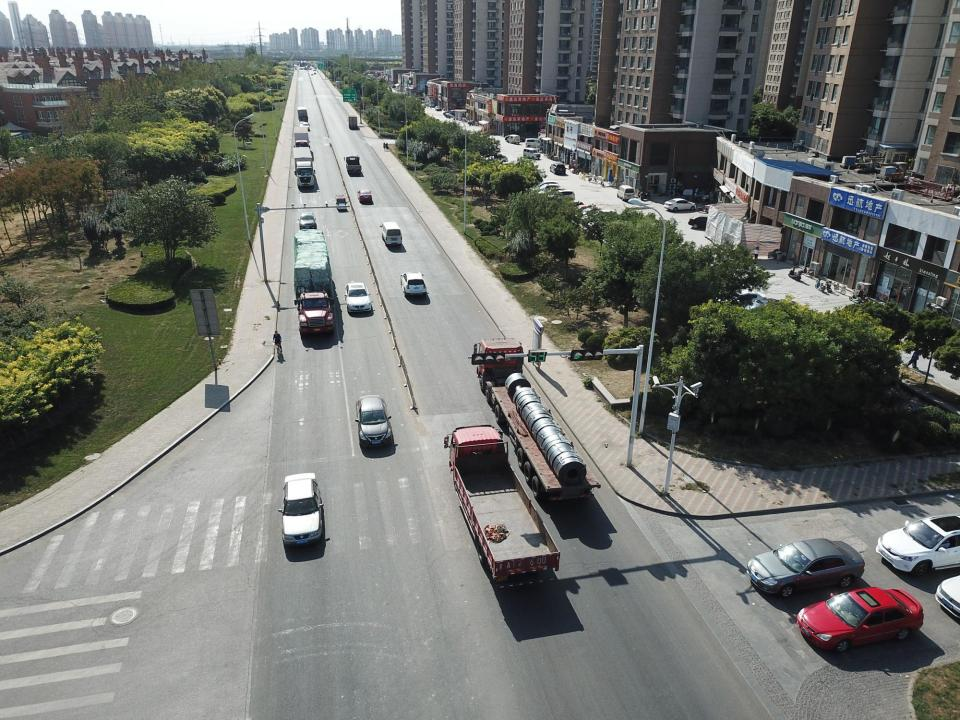car: (798, 587, 924, 653), (746, 539, 866, 598), (876, 512, 960, 572), (276, 472, 325, 547), (357, 396, 392, 447), (934, 574, 960, 618), (717, 290, 764, 308), (344, 284, 372, 314), (401, 271, 428, 297), (744, 298, 783, 316), (664, 197, 696, 213), (588, 217, 623, 231), (687, 215, 716, 231), (575, 207, 604, 221), (530, 180, 558, 193), (568, 204, 595, 217), (533, 184, 561, 196), (298, 212, 316, 229), (540, 188, 566, 198), (482, 155, 508, 165), (356, 190, 373, 204), (549, 163, 566, 175), (504, 135, 525, 142), (300, 121, 310, 132), (443, 111, 457, 117), (445, 112, 458, 118), (434, 105, 442, 112)
truck: (475, 337, 598, 506), (444, 426, 559, 583), (294, 230, 336, 334), (293, 147, 315, 188), (293, 124, 311, 153), (344, 156, 362, 176), (297, 105, 308, 124), (348, 115, 359, 129)
van: (380, 222, 403, 246), (582, 209, 618, 224), (548, 190, 576, 203), (617, 184, 635, 202), (522, 148, 540, 160), (525, 137, 542, 147), (507, 136, 520, 144)
